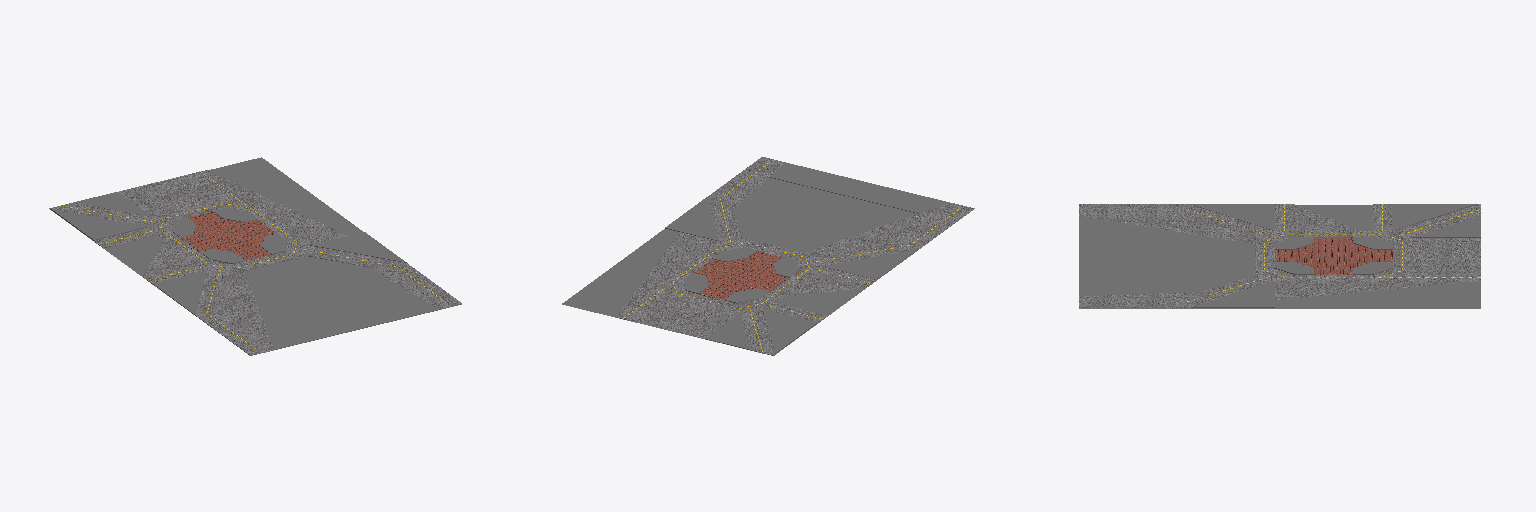
The picture shows the model from 3 angles: view 1: azimuth 30°, elevation 25°; view 2: azimuth 150°, elevation 25°; view 3: azimuth 270°, elevation 25°; orthographic projection.
Parts seen in each view (by area): view 1: Line016, Plane001, Box154, Line001, Line008, Line014, Line010, Line009; view 2: Line016, Plane001, Box154, Line001, Line008, Line014, Line010, Line009; view 3: Line016, Plane001, Box154, Line001, Line008, Line010, Line014, Line009.
Part boxes in pixels (x1,y1,x2,y2): Line016: (49, 170, 461, 355); Plane001: (51, 157, 461, 355); Box154: (268, 296, 438, 349); Line001: (181, 212, 280, 263); Line008: (51, 209, 147, 240); Line014: (153, 270, 207, 314); Line010: (310, 232, 406, 262); Line009: (73, 192, 150, 216); Line016: (617, 157, 974, 355); Plane001: (562, 177, 972, 355); Box154: (770, 163, 949, 213); Line001: (688, 251, 796, 300); Line008: (763, 309, 817, 353); Line014: (822, 249, 918, 279); Line010: (665, 197, 718, 240); Line009: (706, 314, 750, 349); Line016: (1079, 204, 1480, 307); Plane001: (1079, 205, 1480, 308); Box154: (1079, 216, 1116, 295); Line001: (1275, 237, 1392, 274); Line008: (1392, 204, 1476, 230); Line010: (1191, 281, 1274, 307); Line014: (1191, 204, 1274, 230); Line009: (1412, 216, 1480, 237).
Bounding box in the file's own units: 250 × 1.65 × 410.
Materials: 5 (3 with a texture image).